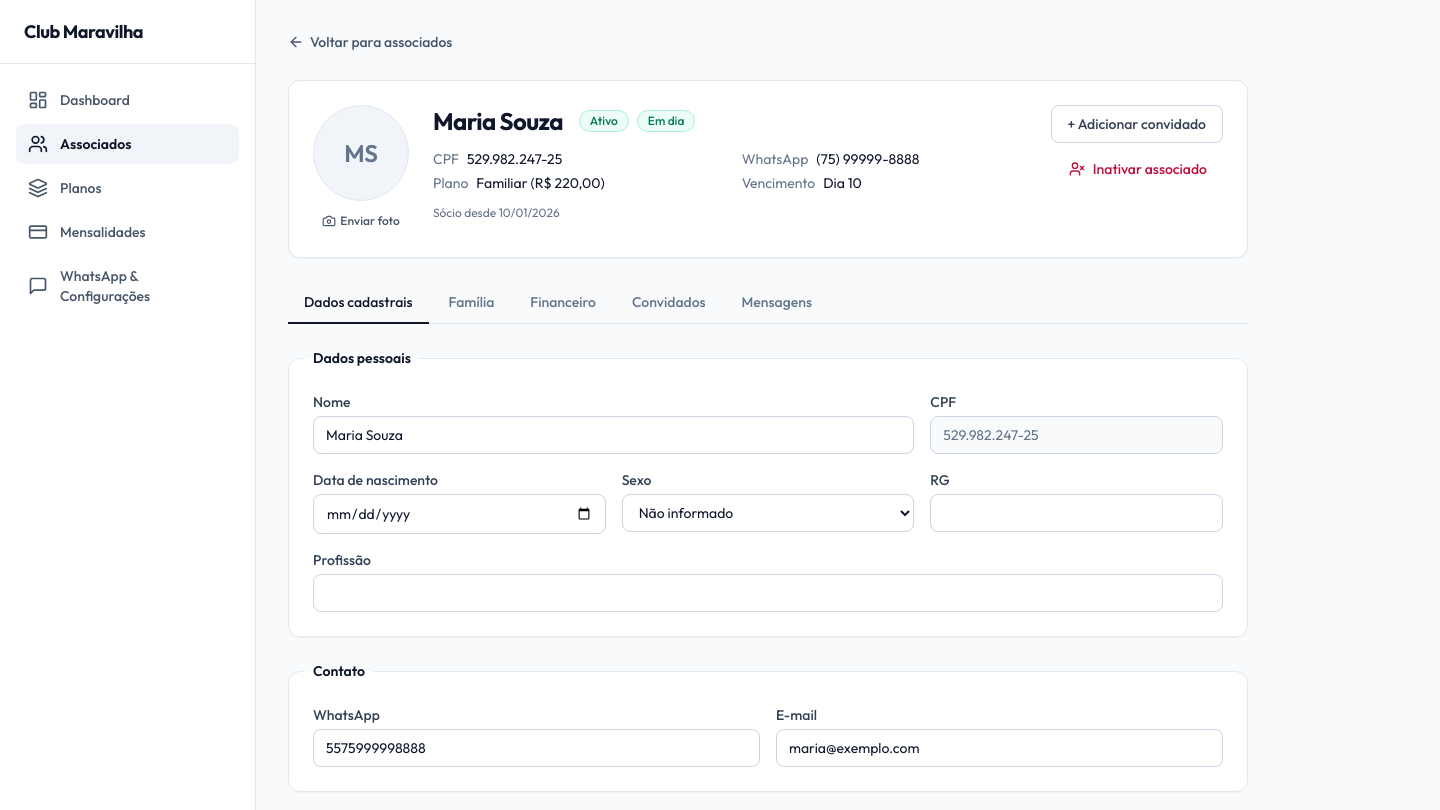
Test: FichaAssociadoPage - histórico › financeiro lista as faturas do sócio
This screenshot has width=1440, height=810.
What coordinates should you click on to do the following:
click the tab "Financeiro"
I would click on:
 (563, 303)
Its box is left=514, top=282, right=612, bottom=324.
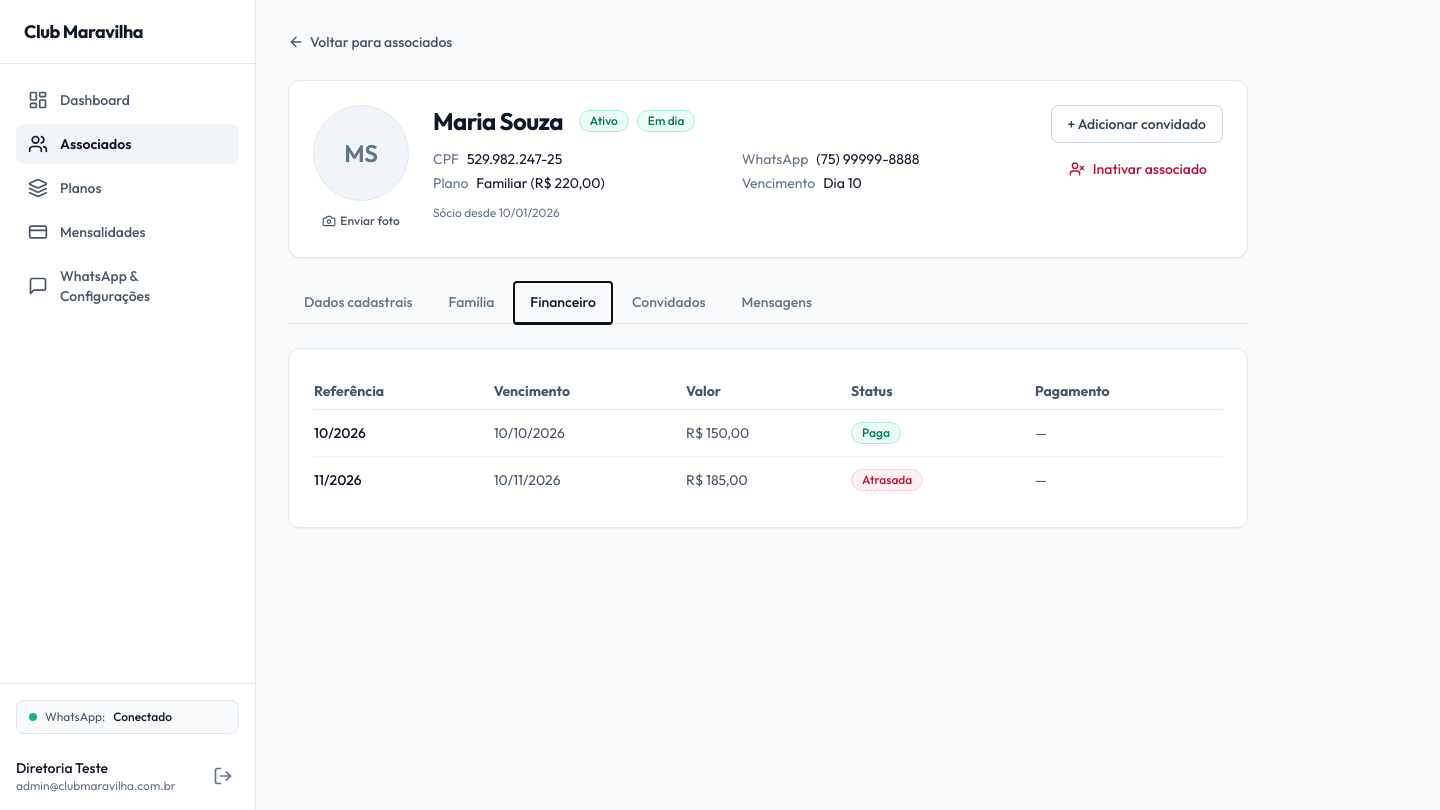
Result: the row "10/2026 10/10/2026 R$ 150,00 Paga —" is shown at left=313, top=410, right=1223, bottom=456
Result: the row "11/2026 10/11/2026 R$ 185,00 Atrasada —" is shown at left=313, top=456, right=1223, bottom=503
